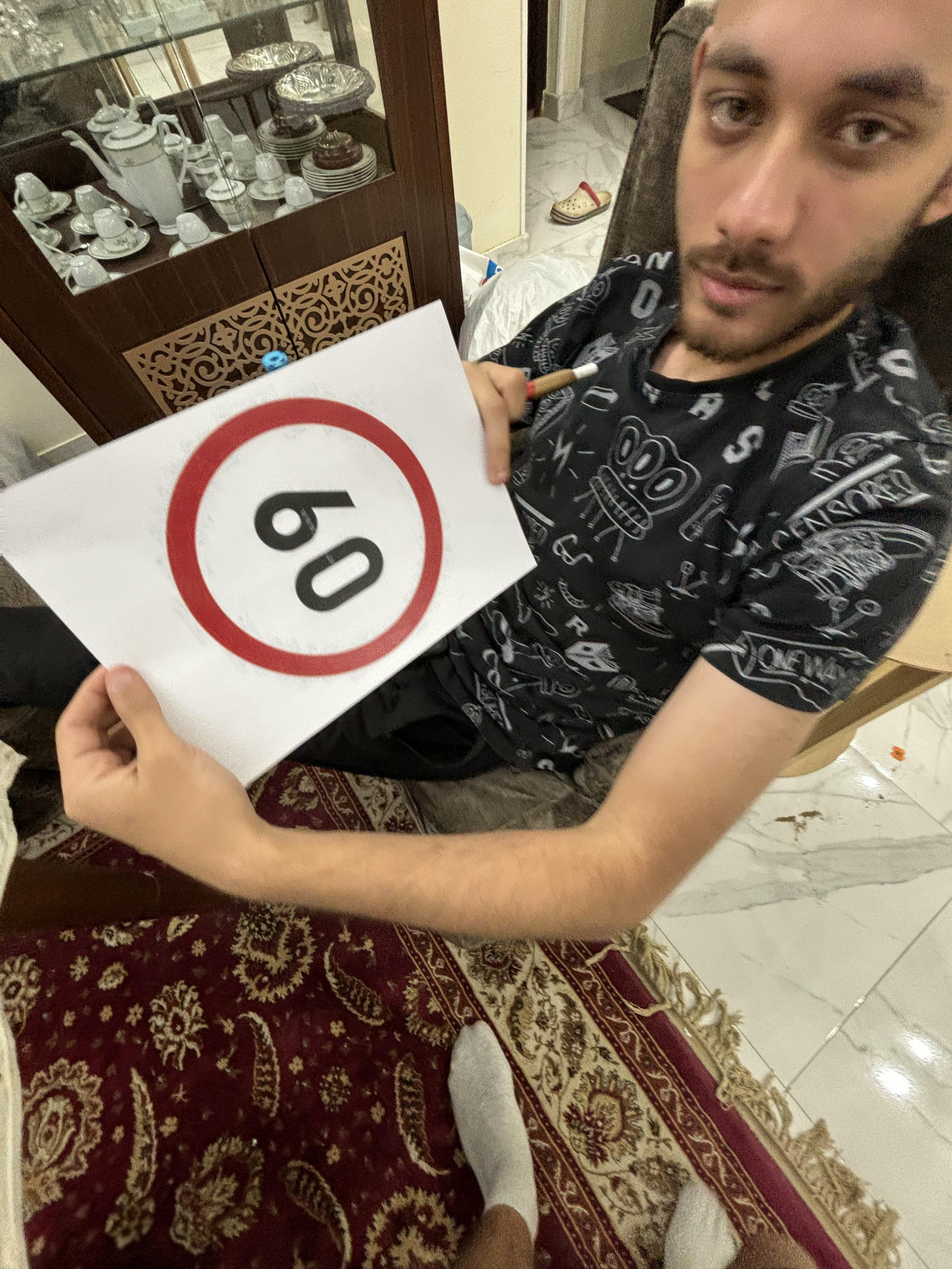60-Speed: (167, 391, 455, 684)
